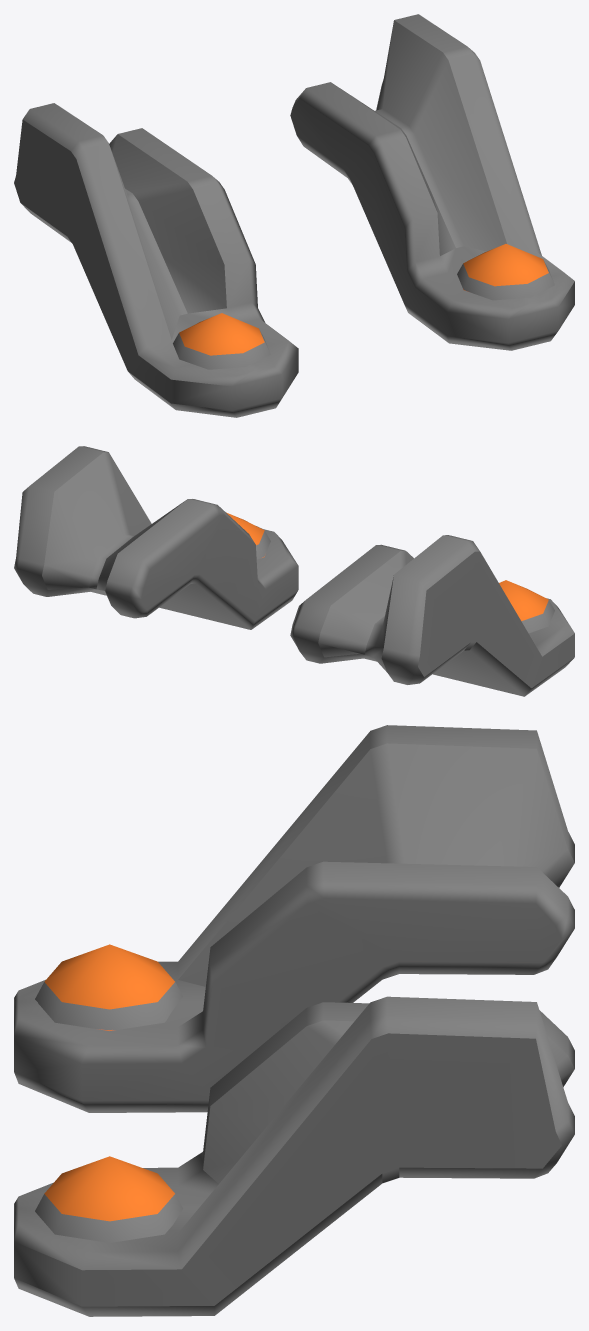
The model's file is pedestal_fixed.fbx.
3 views of the same model, one above another, from view 1: azimuth 30°, elevation 25°; view 2: azimuth 150°, elevation 25°; view 3: azimuth 270°, elevation 25° (orthographic). The views are drawn at different scales.
Visible parts, largest first — view 1: pedestal_fixed; view 2: pedestal_fixed; view 3: pedestal_fixed.
Boxes of the visible parts, x1,y1,x2,y2 form: pedestal_fixed: (14,14,574,417); pedestal_fixed: (14,446,574,696); pedestal_fixed: (14,725,574,1316).
Bounding box in the file's own units: 78.16 × 36.5 × 61.54.
